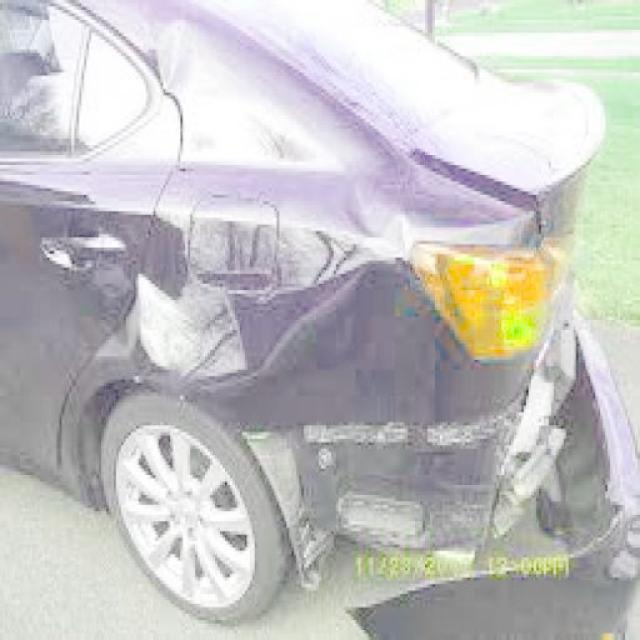car damage: (128, 189, 636, 635)
